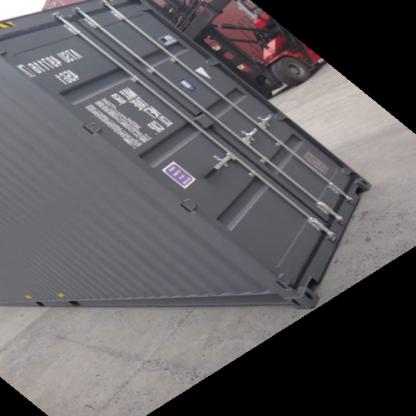Damage: (111, 95, 154, 126), (194, 158, 220, 184)
